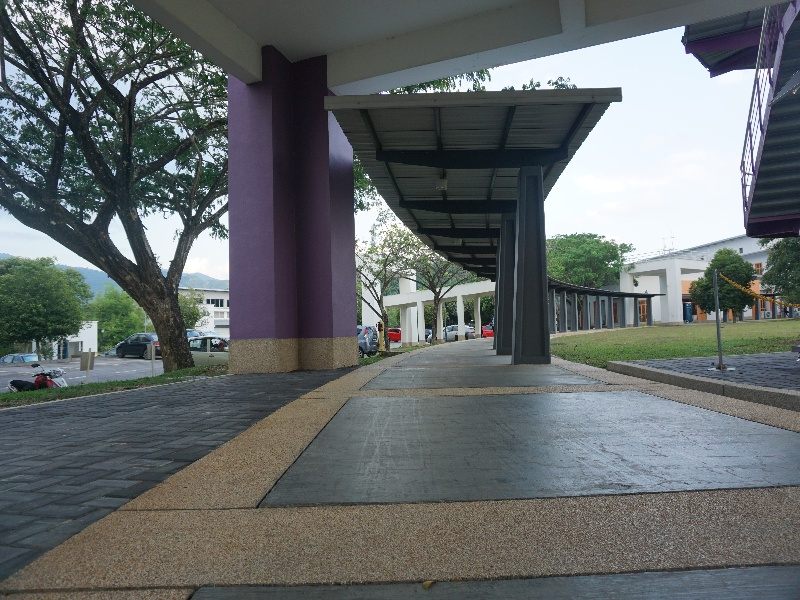Block D Pillar 6: (2, 3, 800, 500)
pillar: (220, 35, 362, 373), (511, 158, 556, 374)
